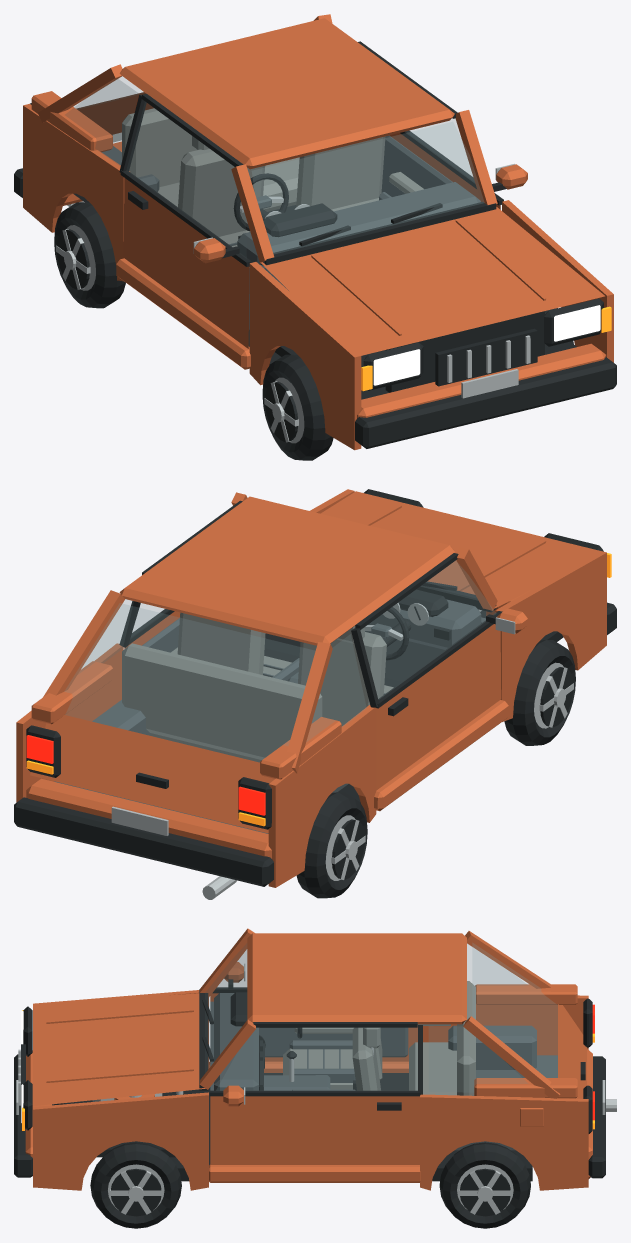
The model's file is oc_hatch_01.glb.
The picture shows the model from 3 angles, top to bottom: view 1: azimuth 30°, elevation 25°; view 2: azimuth 150°, elevation 25°; view 3: azimuth 270°, elevation 25°; orthographic projection. The views are drawn at different scales.
Parts seen in each view (by area): view 1: OC_Hatch_01_Mesh, Hood_Mesh, Door_FL_Mesh, Door_FR_Mesh, Wheel_RL_Mesh, Wheel_FL_Mesh, Trunk_Mesh; view 2: OC_Hatch_01_Mesh, Trunk_Mesh, Door_FL_Mesh, Hood_Mesh, Wheel_RL_Mesh, Wheel_FL_Mesh, Door_FR_Mesh; view 3: OC_Hatch_01_Mesh, Door_FR_Mesh, Hood_Mesh, Trunk_Mesh, Wheel_RR_Mesh, Wheel_FR_Mesh, Door_FL_Mesh, Fuel_Flap_Mesh.
Boxes of the visible parts, x1,y1,x2,y2 form: OC_Hatch_01_Mesh: (14, 14, 616, 450); Hood_Mesh: (260, 207, 604, 356); Door_FL_Mesh: (119, 93, 251, 348); Door_FR_Mesh: (358, 41, 527, 209); Wheel_RL_Mesh: (54, 202, 125, 308); Wheel_FL_Mesh: (262, 354, 333, 460); Trunk_Mesh: (74, 76, 153, 134); OC_Hatch_01_Mesh: (14, 489, 616, 899); Trunk_Mesh: (30, 603, 314, 833); Door_FL_Mesh: (351, 553, 527, 790); Hood_Mesh: (321, 491, 605, 608); Wheel_RL_Mesh: (296, 792, 367, 898); Wheel_FL_Mesh: (504, 640, 575, 745); Door_FR_Mesh: (119, 500, 242, 654); OC_Hatch_01_Mesh: (14, 928, 616, 1190); Door_FR_Mesh: (209, 1022, 422, 1164); Hood_Mesh: (33, 993, 205, 1106); Trunk_Mesh: (473, 943, 586, 1098); Wheel_RR_Mesh: (439, 1142, 530, 1228); Wheel_FR_Mesh: (90, 1142, 181, 1228); Door_FL_Mesh: (210, 950, 417, 1061); Fuel_Flap_Mesh: (520, 1108, 543, 1126).
Size of the model in its own units: 2.18 by 1.55 by 4.15.
